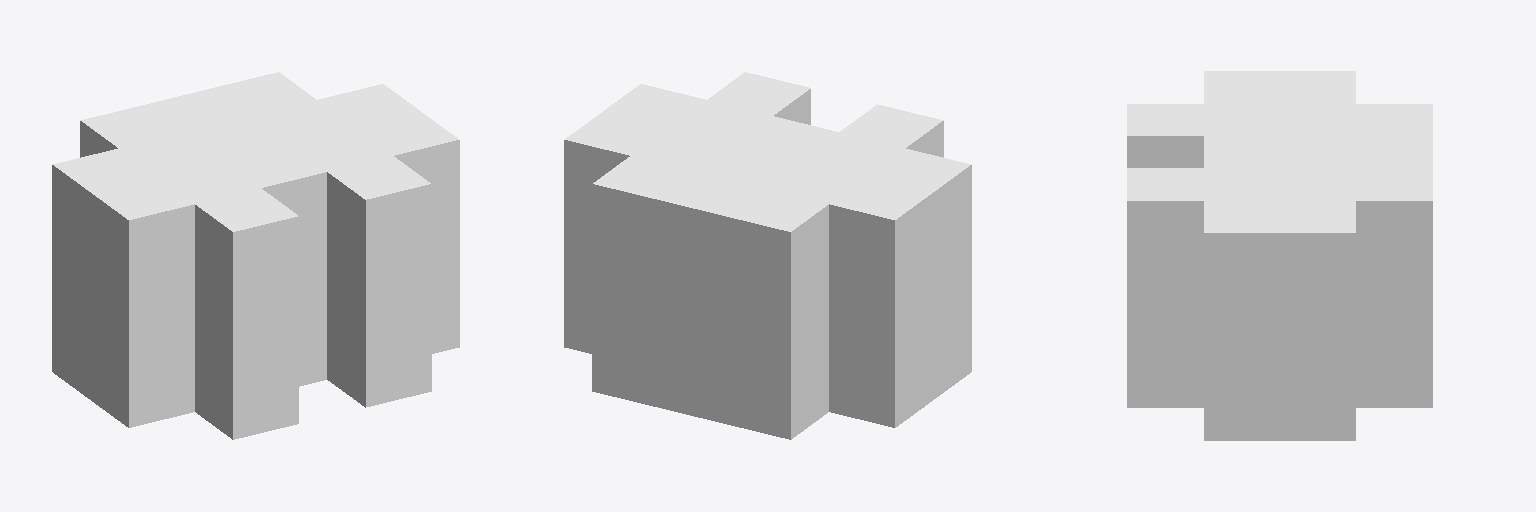
File: SH_Soldier-10-Spine_03.obj
The picture shows the model from 3 angles: view 1: azimuth 30°, elevation 25°; view 2: azimuth 150°, elevation 25°; view 3: azimuth 270°, elevation 25°; orthographic projection.
Visible parts, largest first — view 1: Spine_03; view 2: Spine_03; view 3: Spine_03.
Boxes of the visible parts, x1=… form: Spine_03: x1=52, y1=72, x2=459, y2=439; Spine_03: x1=564, y1=72, x2=971, y2=439; Spine_03: x1=1127, y1=71, x2=1432, y2=440.
Bounding box in the file's own units: 0.5 × 0.3 × 0.4.